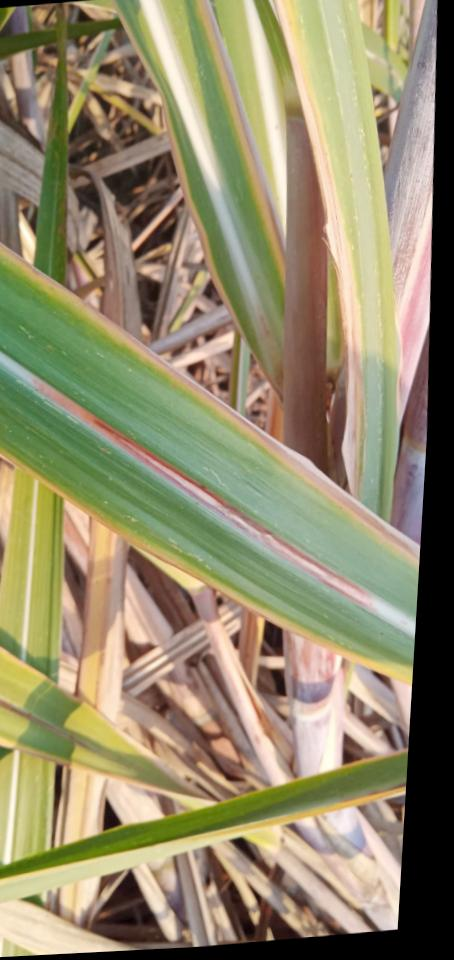RedRot: (29, 377, 377, 611)
